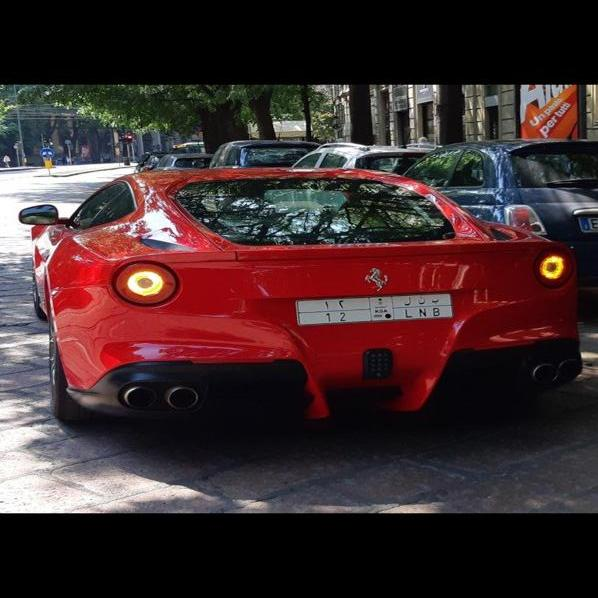numberplate: (296, 290, 455, 322)
